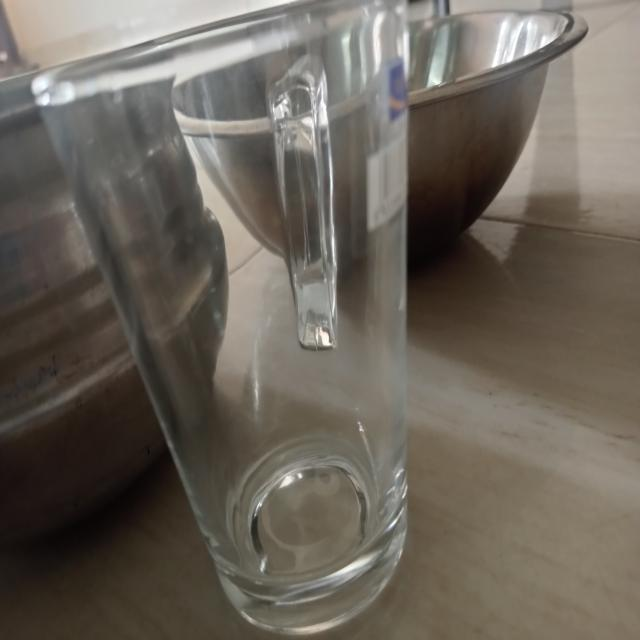glass-VX4N: (32, 0, 409, 640)
